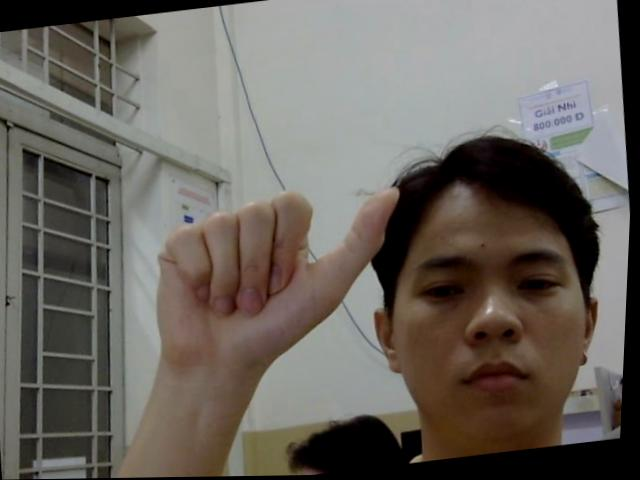A: (136, 182, 420, 393)
